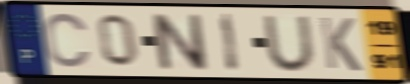0: (95, 12, 142, 70)
C: (42, 11, 94, 70)
I: (218, 11, 242, 75)
K: (317, 14, 364, 74)
N: (148, 11, 212, 72)
U: (260, 14, 319, 74)
